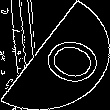O_NW: (15, 23, 95, 87)
